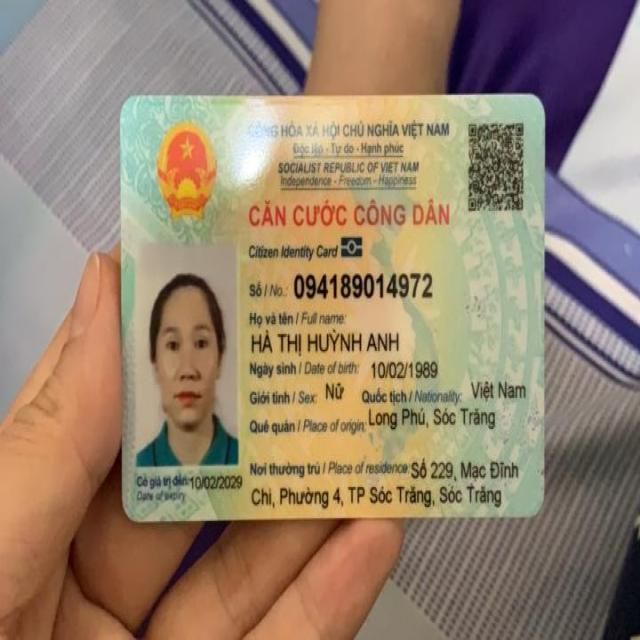bottom_left: (107, 486, 162, 534)
bottom_right: (514, 488, 552, 534)
image_person: (140, 249, 246, 470)
top_left: (110, 82, 156, 140)
top_right: (508, 79, 557, 123)
